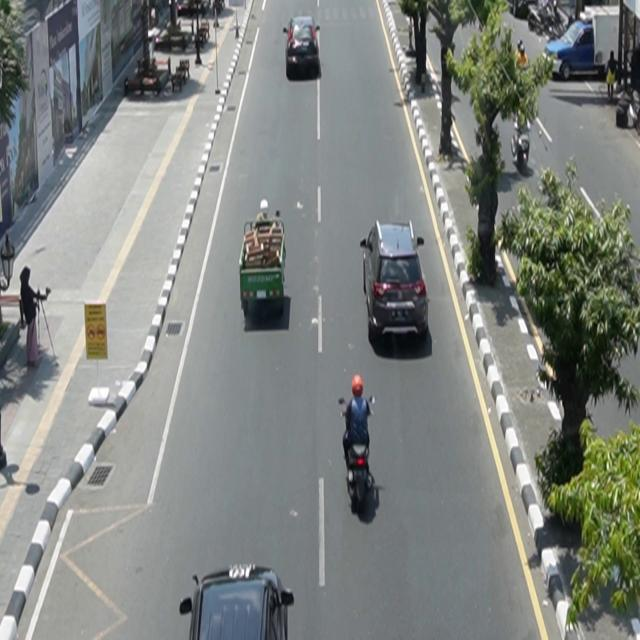car: (180, 564, 295, 640), (360, 220, 430, 344), (284, 17, 322, 81)
